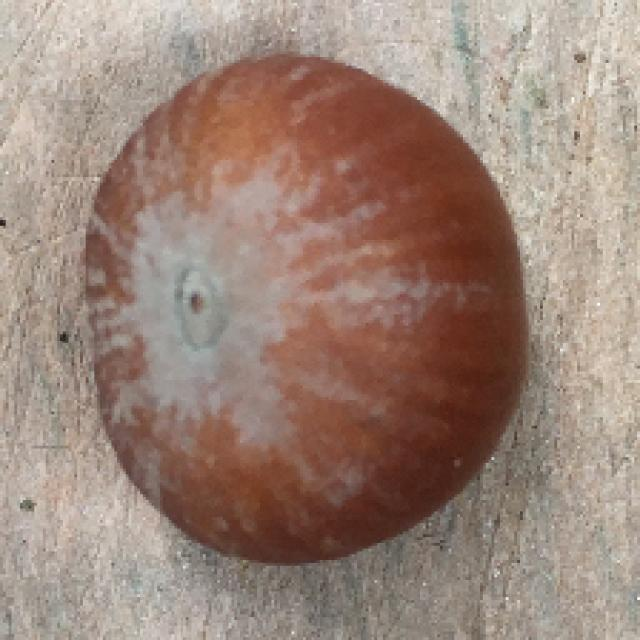qualityHazelnut: (67, 39, 541, 576)
